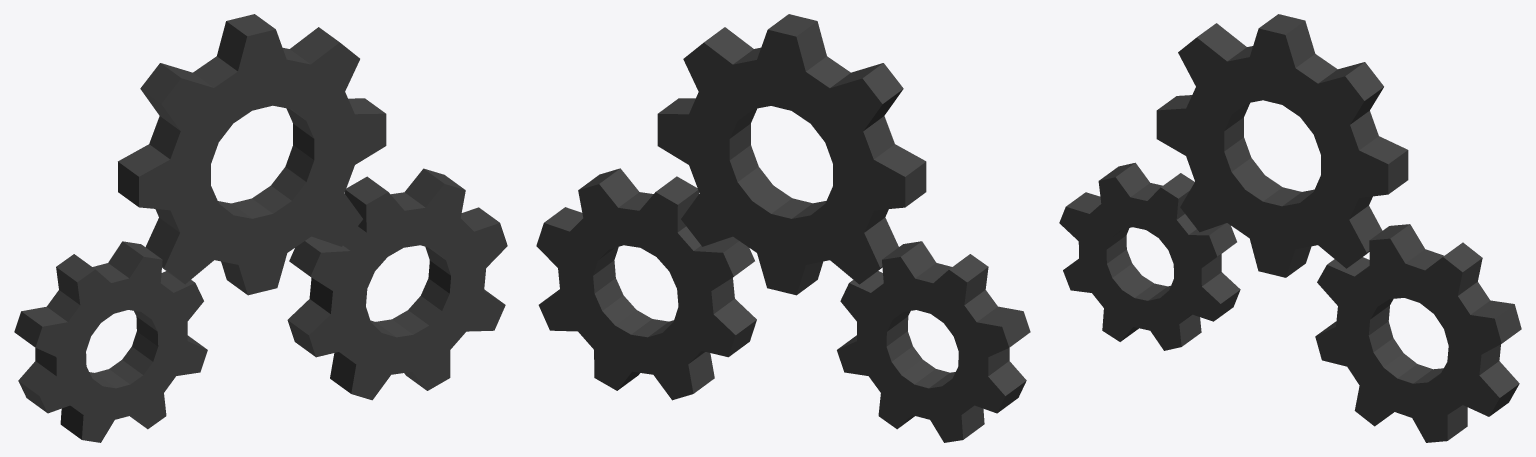
File: gears_three.fbx
The picture shows the model from 3 angles, left to right: view 1: azimuth 30°, elevation 25°; view 2: azimuth 150°, elevation 25°; view 3: azimuth 330°, elevation 25°; orthographic projection. The views are drawn at different scales.
Visible parts, largest first — view 1: gear_big, gear_medium, gear_small; view 2: gear_big, gear_medium, gear_small; view 3: gear_big, gear_medium, gear_small.
Part boxes in pixels (box(x1,y1,x2,y2)): gear_big: box(118, 14, 386, 295); gear_medium: box(287, 168, 507, 400); gear_small: box(14, 241, 207, 442); gear_big: box(657, 14, 926, 295); gear_medium: box(536, 168, 756, 400); gear_small: box(837, 241, 1030, 442); gear_big: box(1156, 14, 1408, 277); gear_medium: box(1315, 224, 1521, 442); gear_small: box(1059, 162, 1240, 350).
Bounding box in the file's own units: 43.75 × 35.25 × 3.51.
